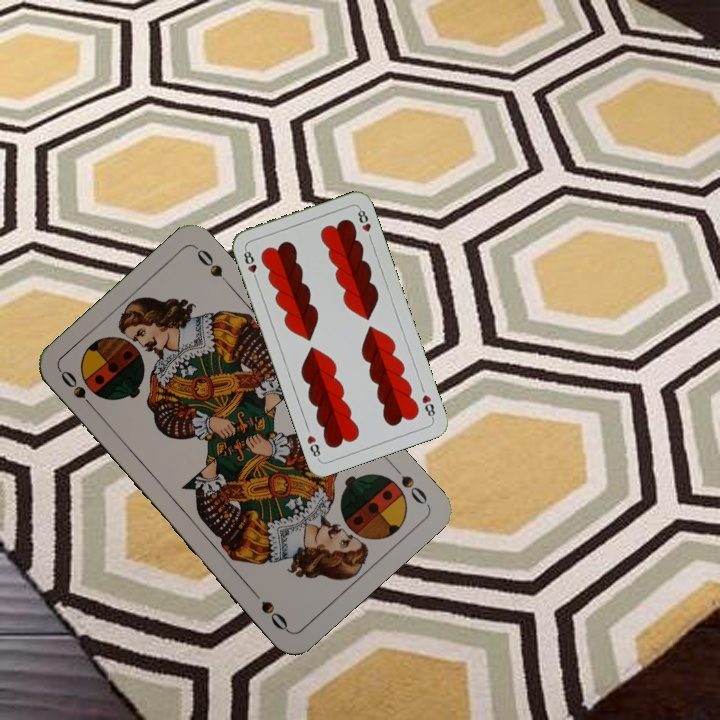H8: (239, 244, 260, 284), (418, 390, 438, 422)
SO: (56, 366, 101, 415), (387, 459, 430, 508)
